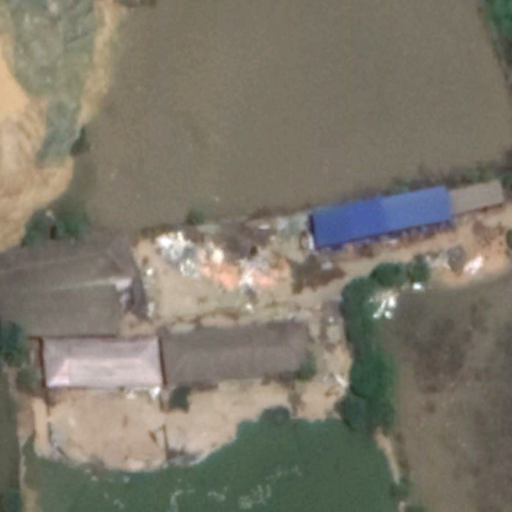msw: (154, 217, 306, 285)
